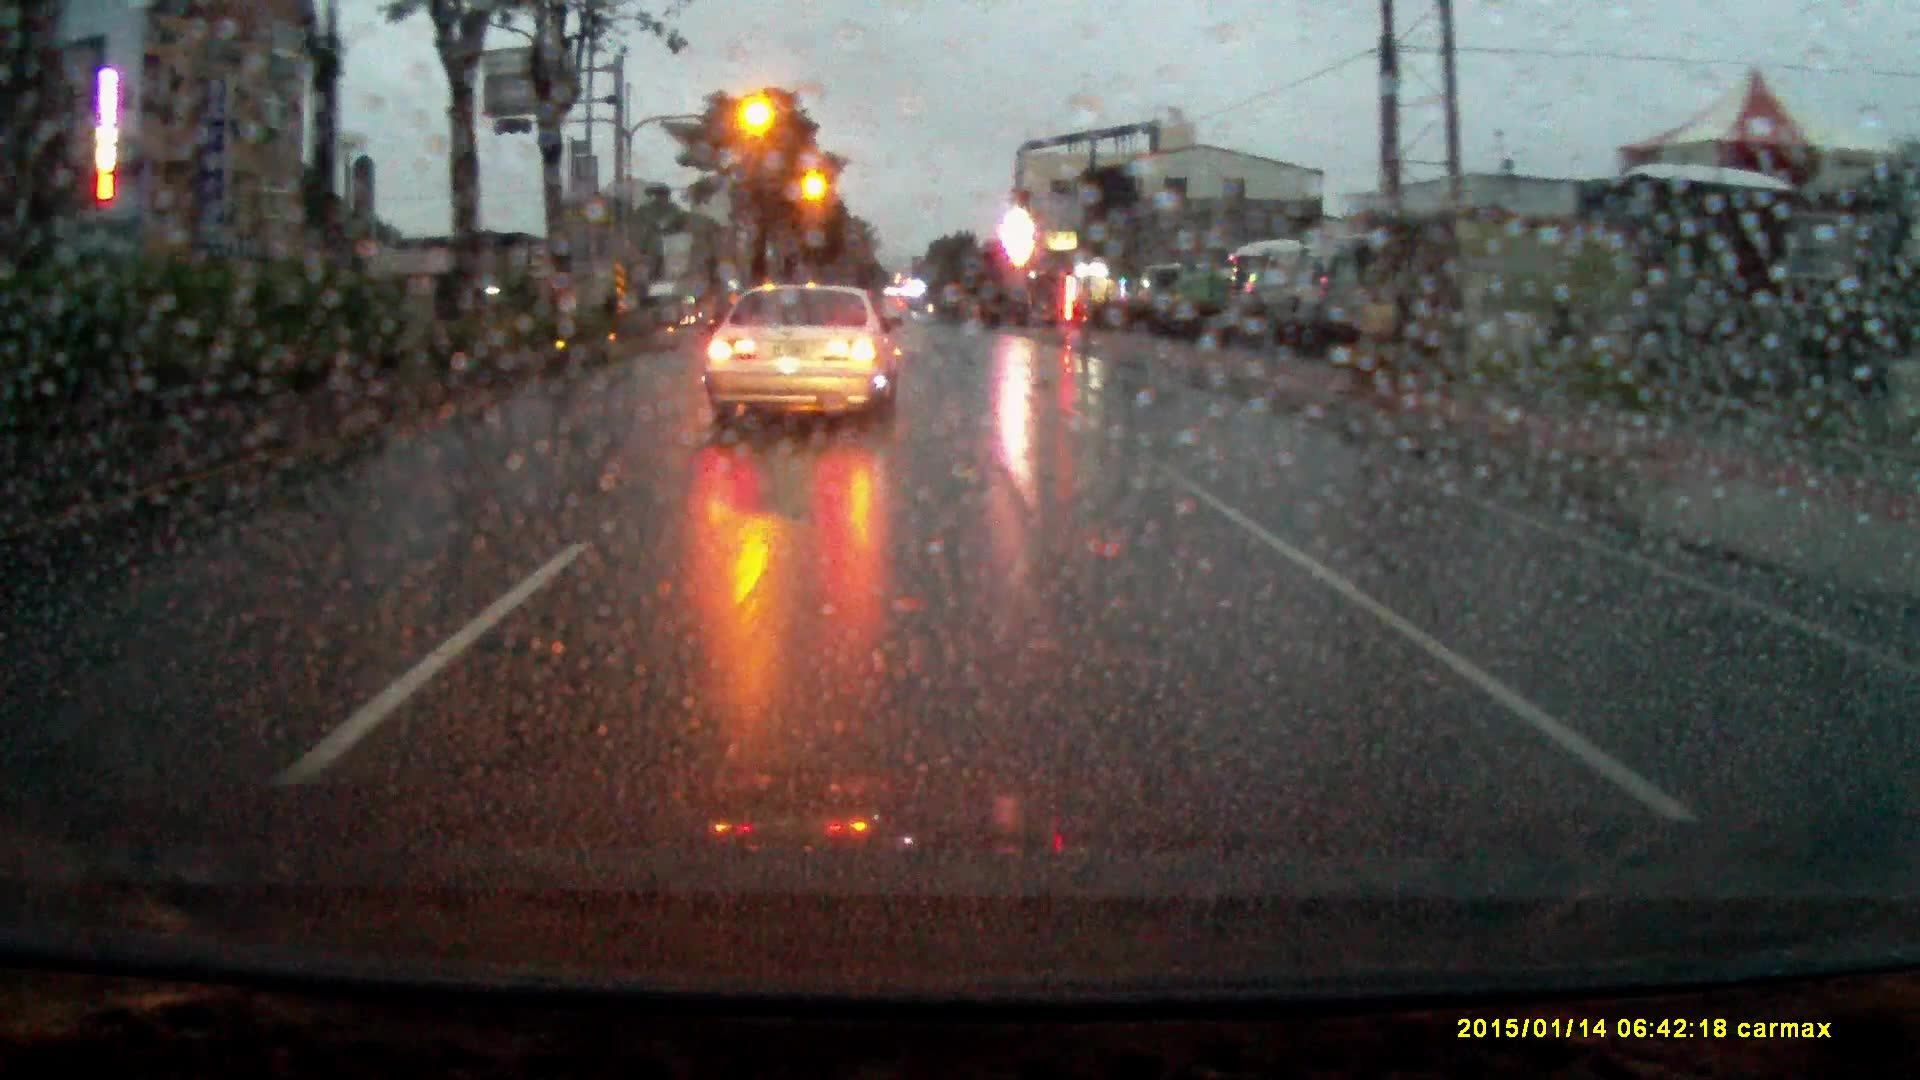vehicle: (703, 276, 907, 444), (1323, 232, 1419, 345), (1234, 243, 1327, 345), (1162, 265, 1229, 323), (1137, 265, 1193, 334), (647, 284, 698, 331)
